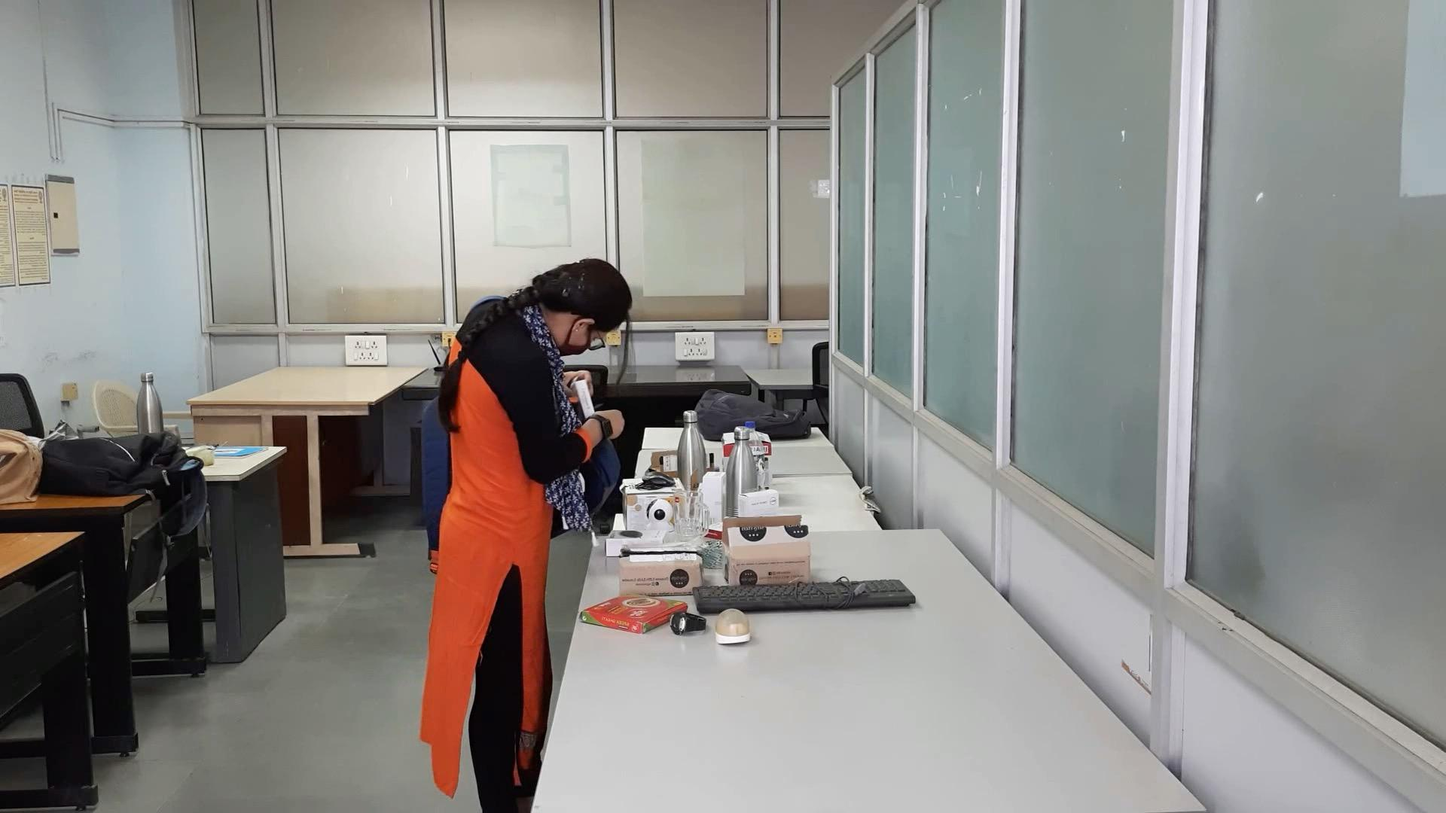shoplifting: (535, 362, 638, 512)
